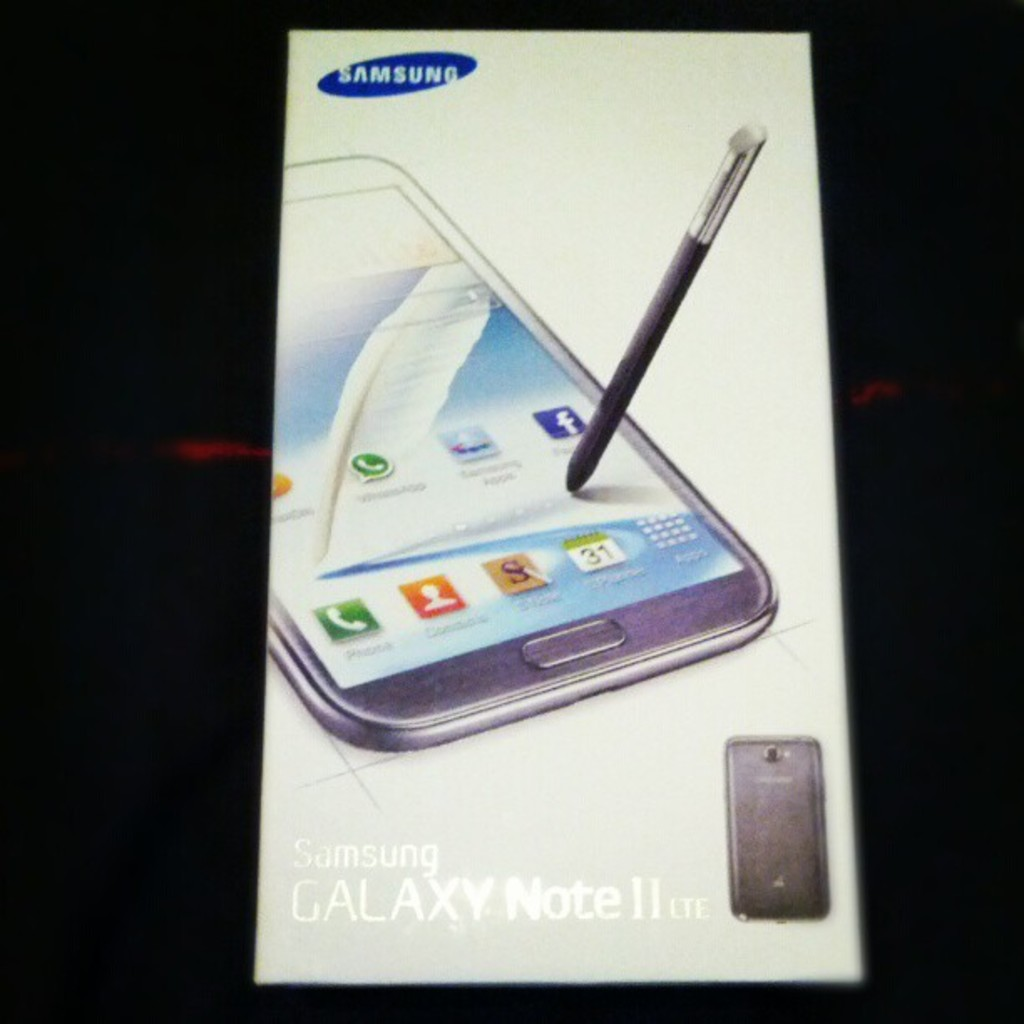Pen: (559, 120, 771, 492)
